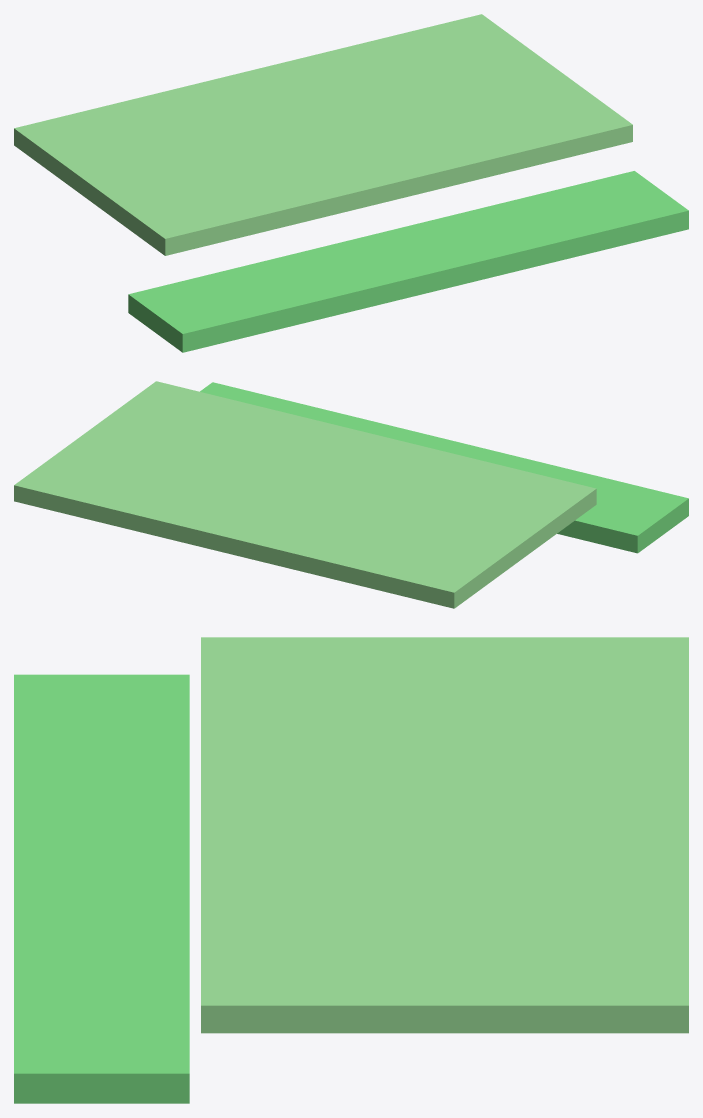
The model's file is stairz.glb.
The picture shows the model from 3 angles, top to bottom: view 1: azimuth 30°, elevation 25°; view 2: azimuth 150°, elevation 25°; view 3: azimuth 270°, elevation 25°; orthographic projection. The views are drawn at different scales.
Parts seen in each view (by area): view 1: Cube2, Cube; view 2: Cube2, Cube; view 3: Cube2, Cube.
Part boxes in pixels (x1,y1,x2,y2): Cube2: [14, 14, 632, 255]; Cube: [128, 171, 688, 352]; Cube2: [14, 381, 596, 608]; Cube: [200, 382, 688, 553]; Cube2: [201, 637, 688, 1033]; Cube: [14, 674, 189, 1103].
Size of what is drawn, in the model's own units: 10.78 by 1.25 by 7.68.
